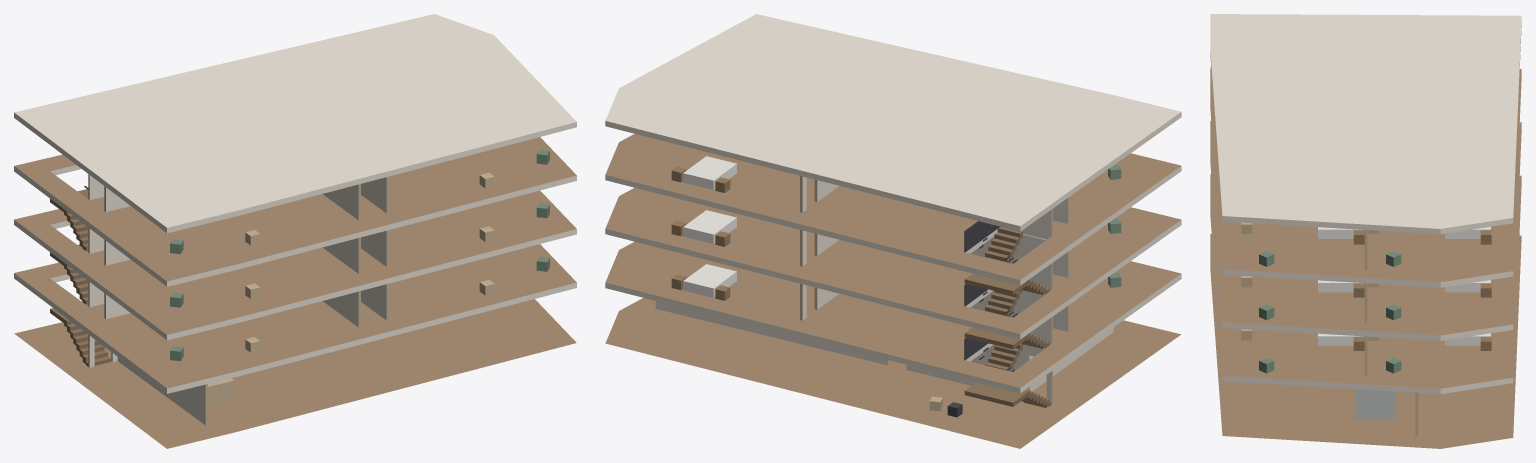
File: interior.glb
3 renders of one model, left to right at view 1: azimuth 30°, elevation 25°; view 2: azimuth 150°, elevation 25°; view 3: azimuth 270°, elevation 25°, orthographic.
Parts seen in each view (by area): view 1: slabs, partitions, stair, coarse-s1, coarse-s2, coarse-s3, coarse-s0; view 2: slabs, partitions, stair, coarse-s1, coarse-s2, coarse-s3; view 3: slabs, coarse-s2, coarse-s1, coarse-s3, coarse-s0, partitions.
Boxes of the visible parts, x1,y1,x2,y2 form: slabs: (14, 14, 576, 448); partitions: (88, 174, 389, 425); stair: (50, 186, 110, 366); coarse-s1: (170, 256, 549, 361); coarse-s2: (170, 203, 549, 307); coarse-s3: (170, 149, 549, 253); coarse-s0: (208, 378, 234, 405); slabs: (605, 14, 1181, 448); partitions: (655, 176, 1113, 404); stair: (964, 221, 1051, 407); coarse-s1: (671, 264, 1121, 300); coarse-s2: (671, 210, 1121, 246); coarse-s3: (671, 156, 1121, 192); slabs: (1210, 14, 1521, 448); coarse-s2: (1241, 276, 1491, 320); coarse-s1: (1241, 329, 1491, 373); coarse-s3: (1241, 222, 1491, 266); coarse-s0: (1355, 389, 1394, 419); partitions: (1364, 230, 1418, 436).
Bounding box in the file's own units: 22.07 × 10.55 × 13.52.
